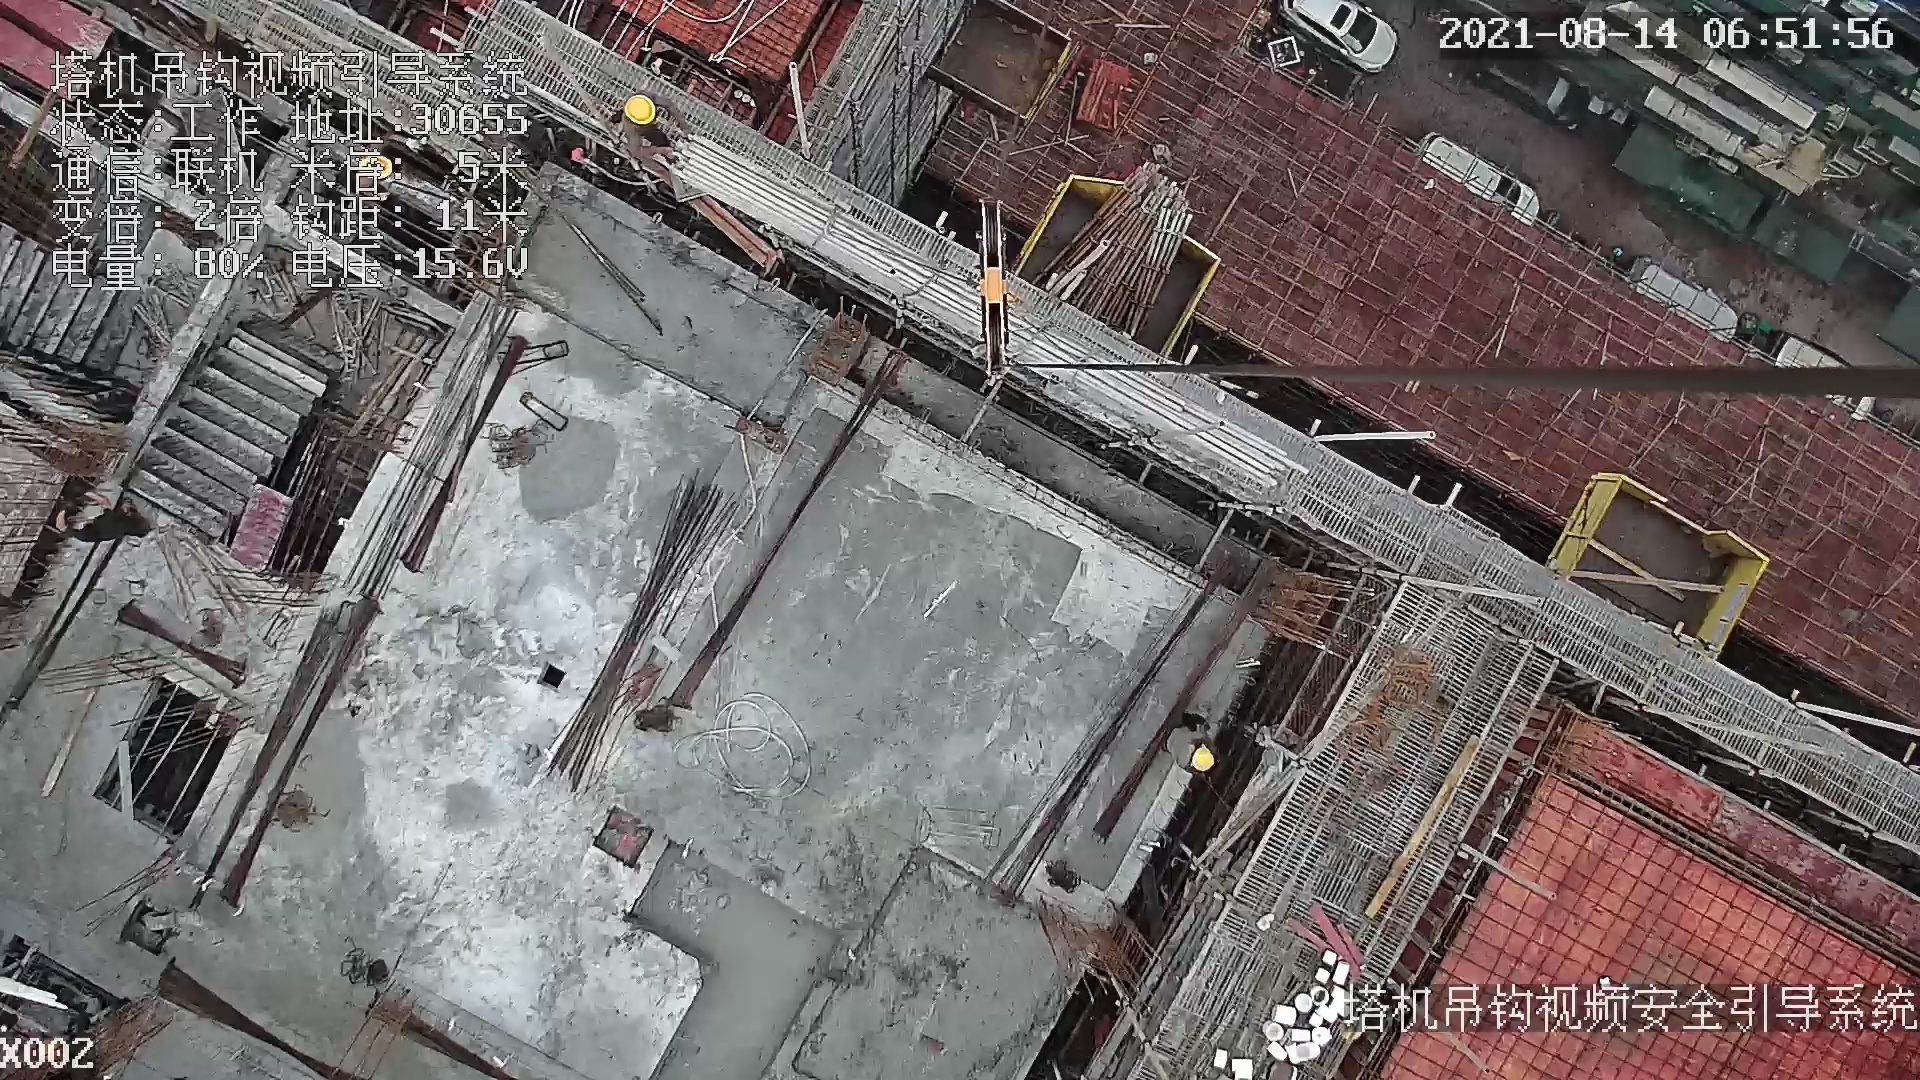helmet: (623, 95, 655, 125), (1192, 747, 1214, 771)
hook: (960, 194, 1033, 374)
person: (612, 87, 688, 168), (52, 489, 151, 546), (1162, 706, 1227, 782)
rebar: (672, 135, 1309, 488), (544, 471, 737, 794)
scaffold: (1035, 166, 1192, 345)
